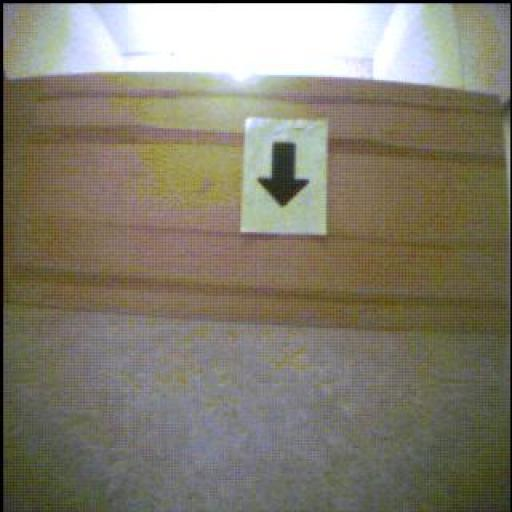arrow: (259, 144, 310, 208)
